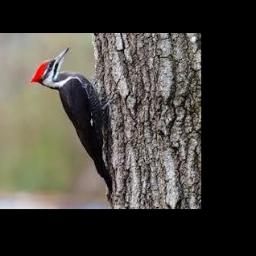Woodpecker: (30, 46, 116, 200)
